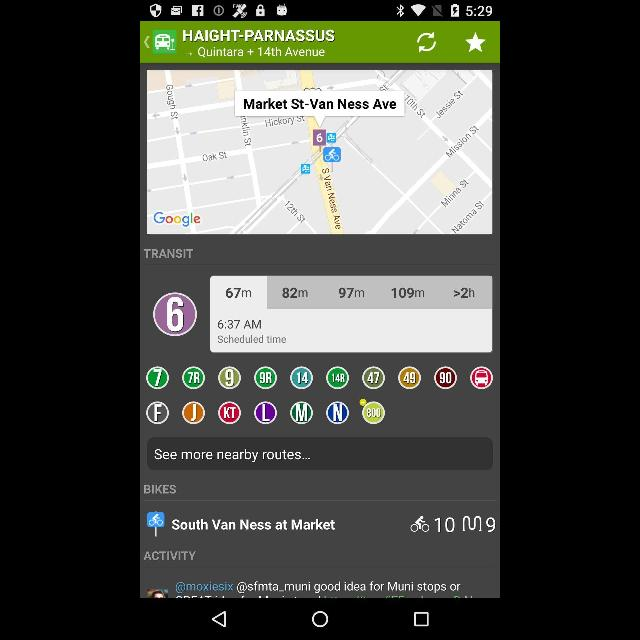icon: (416, 31, 436, 54), (464, 33, 486, 53), (462, 516, 482, 532), (312, 610, 328, 628), (412, 516, 428, 532), (212, 612, 226, 628), (414, 613, 428, 627), (144, 36, 150, 50)
image: (153, 288, 197, 338), (182, 365, 206, 391), (146, 366, 170, 390), (326, 366, 350, 390), (146, 401, 170, 425), (218, 401, 242, 425), (434, 365, 456, 391), (398, 366, 422, 389), (290, 402, 314, 424), (255, 368, 278, 390), (363, 366, 385, 389), (254, 401, 276, 424), (362, 400, 383, 424), (147, 510, 165, 538), (183, 402, 205, 424), (327, 402, 349, 424), (292, 366, 312, 390), (472, 366, 492, 390), (154, 30, 176, 51), (220, 366, 240, 388)
input: (146, 438, 494, 470)
map: (146, 68, 492, 234)
multitab: (210, 276, 492, 308)
panel: (140, 21, 500, 64), (141, 600, 499, 640), (212, 306, 492, 352)
text: (176, 580, 460, 594), (156, 449, 310, 463), (184, 28, 334, 42), (172, 520, 336, 530), (184, 47, 326, 57), (218, 335, 286, 345), (146, 247, 194, 259), (218, 318, 262, 330), (145, 552, 195, 560), (144, 485, 176, 495), (436, 516, 454, 532), (486, 516, 496, 532)
uppertaskbar: (140, 0, 500, 20)
